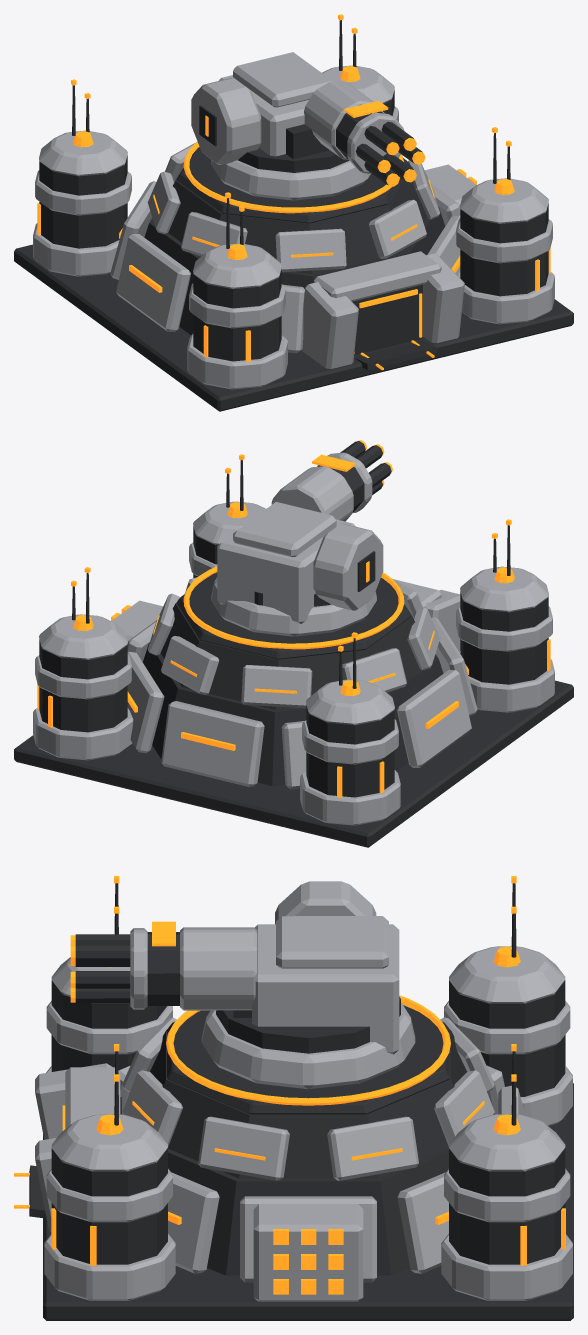
The model's file is sb_bunker_t1.glb.
3 views of the same model, one above another, from view 1: azimuth 30°, elevation 25°; view 2: azimuth 150°, elevation 25°; view 3: azimuth 270°, elevation 25° (orthographic). The views are drawn at different scales.
Visible parts, largest first — view 1: SM_BK2V_TOWERS, SM_BK2V_PLINTH, SM_BK2V_TOWERS_CORE, SM_BK2V_DOOR_BUTTRESS, SM_BK2V_TURRET_BODY, SM_BK2V_PLATES_UP, SM_BK2V_PLATES_LOW, SM_BK2V_CORE_UP, SM_BK2V_LIGHTS, SM_BK2V_DECK, SM_BK2V_DOOR_RECESS, SM_BK2V_DRUM (+8 smaller); view 2: SM_BK2V_TOWERS, SM_BK2V_PLINTH, SM_BK2V_PLATES_LOW, SM_BK2V_TOWERS_CORE, SM_BK2V_TURRET_BODY, SM_BK2V_PLATES_UP, SM_BK2V_CORE_LOW, SM_BK2V_DECK, SM_BK2V_CORE_UP, SM_BK2V_LIGHTS, SM_BK2V_DRUM, SM_BK2V_GATLING (+6 smaller); view 3: SM_BK2V_TOWERS, SM_BK2V_TOWERS_CORE, SM_BK2V_TURRET_BODY, SM_BK2V_PLINTH, SM_BK2V_PLATES_UP, SM_BK2V_PLATES_LOW, SM_BK2V_CORE_UP, SM_BK2V_CORE_LOW, SM_BK2V_LIGHTS, SM_BK2V_DECK, SM_BK2V_POD, SM_BK2V_GATLING (+7 smaller).
Part boxes in pixels (x1,y1,x2,y2): SM_BK2V_TOWERS: (33, 65, 554, 389); SM_BK2V_PLINTH: (14, 244, 573, 411); SM_BK2V_TOWERS_CORE: (39, 90, 548, 361); SM_BK2V_DOOR_BUTTRESS: (301, 251, 464, 368); SM_BK2V_TURRET_BODY: (211, 52, 370, 200); SM_BK2V_PLATES_UP: (147, 142, 439, 272); SM_BK2V_PLATES_LOW: (110, 181, 460, 353); SM_BK2V_CORE_UP: (168, 167, 427, 273); SM_BK2V_LIGHTS: (37, 14, 550, 370); SM_BK2V_DECK: (176, 147, 411, 223); SM_BK2V_DOOR_RECESS: (352, 284, 436, 369); SM_BK2V_DRUM: (191, 78, 261, 164); SM_BK2V_TOWERS: (33, 501, 554, 825); SM_BK2V_PLINTH: (14, 680, 573, 847); SM_BK2V_PLATES_LOW: (127, 617, 477, 789); SM_BK2V_TOWERS_CORE: (39, 526, 548, 797); SM_BK2V_TURRET_BODY: (211, 502, 376, 636); SM_BK2V_PLATES_UP: (148, 577, 440, 708); SM_BK2V_CORE_LOW: (142, 643, 443, 786); SM_BK2V_DECK: (176, 572, 411, 659); SM_BK2V_CORE_UP: (160, 603, 419, 709); SM_BK2V_LIGHTS: (37, 454, 550, 797); SM_BK2V_DRUM: (313, 523, 383, 610); SM_BK2V_GATLING: (271, 452, 372, 521); SM_BK2V_TOWERS: (44, 946, 572, 1300); SM_BK2V_TOWERS_CORE: (51, 980, 565, 1264); SM_BK2V_TURRET_BODY: (201, 916, 415, 1089); SM_BK2V_PLINTH: (43, 1083, 573, 1320); SM_BK2V_PLATES_UP: (122, 1004, 494, 1180); SM_BK2V_PLATES_LOW: (118, 1065, 525, 1282); SM_BK2V_CORE_UP: (150, 1030, 466, 1178); SM_BK2V_CORE_LOW: (122, 1114, 494, 1275); SM_BK2V_LIGHTS: (14, 876, 565, 1294); SM_BK2V_DECK: (167, 1005, 449, 1114); SM_BK2V_POD: (253, 1204, 363, 1301); SM_BK2V_GATLING: (130, 927, 257, 1010).
Size of the model in its own units: 31.15 by 18.74 by 32.7.
